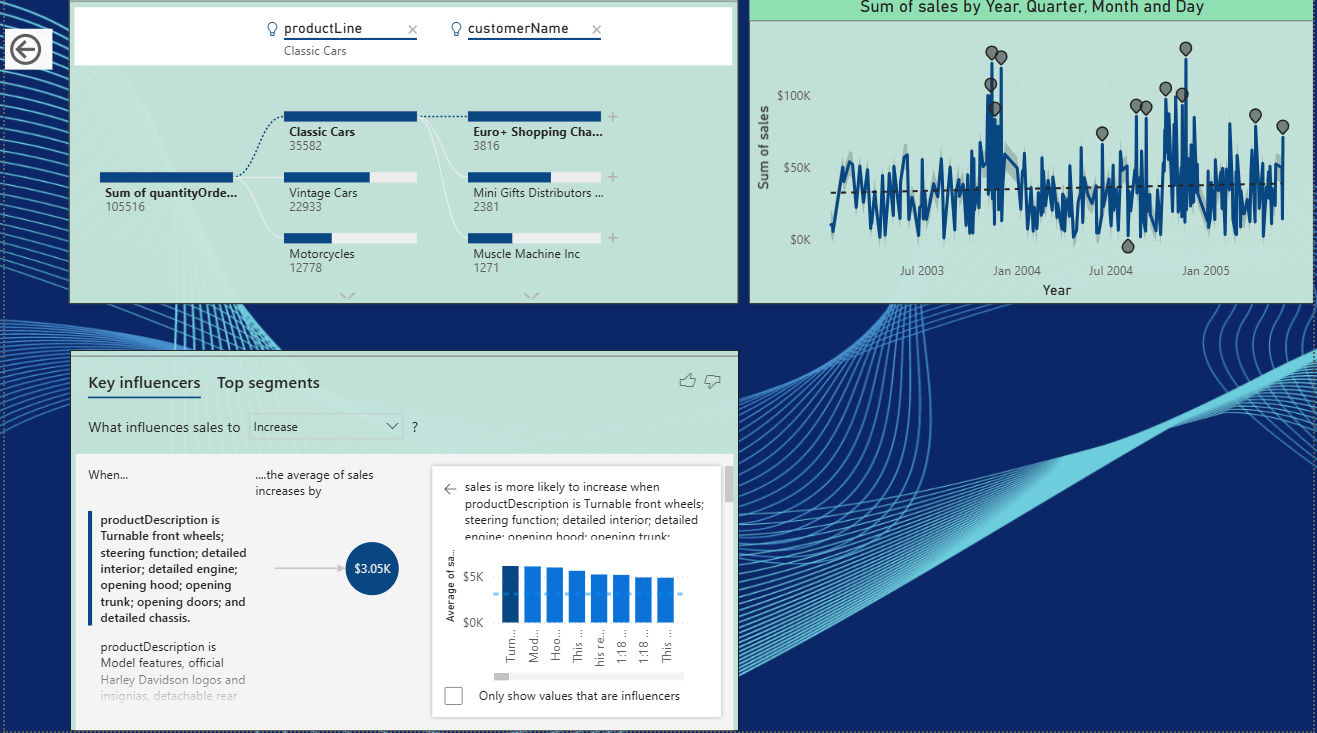

The dashboard page shown, as its layout file describes it:
{"tool":"powerbi","page":{"name":"Page 3","canvas":[1280,720],"ordinal":3},"visuals":[{"type":"decompositionTreeVisual","fields":{"Analyze":["Sum(order_details.quantityOrdered)"],"ExplainBy":["products.productLine","customers.customerName","products.productName"]},"box":[62.4,0,655.4,302],"z":0},{"type":"keyDriversVisual","fields":{"Target":["order_details.sales"],"ExplainBy":["products.productDescription"]},"box":[63.6,347.3,654.2,373],"z":1000},{"type":"actionButton","box":[0,33,46.5,40.4],"z":2000},{"type":"lineChart","fields":{"Y":["Sum(order_details.sales)"],"Category":["orders.orderDate.Variation.Date Hierarchy.Year","orders.orderDate.Variation.Date Hierarchy.Quarter","orders.orderDate.Variation.Date Hierarchy.Month","orders.orderDate.Variation.Date Hierarchy.Day"]},"box":[727,0,553,302],"z":3000}]}

Visuals, with their boxes in screenshot pixels (x1, y1, x2, y2), scaled from the page's 1280x720 canvas onto the 1317x733 screenshot:
decompositionTreeVisual - Sum(order_details.quantityOrdered) x products.productLine: Rect(64, 0, 739, 307)
keyDriversVisual - order_details.sales x products.productDescription: Rect(65, 354, 739, 732)
actionButton: Rect(0, 34, 48, 75)
lineChart - Sum(order_details.sales) x orders.orderDate.Variation.Date Hierarchy.Year: Rect(748, 0, 1316, 307)
